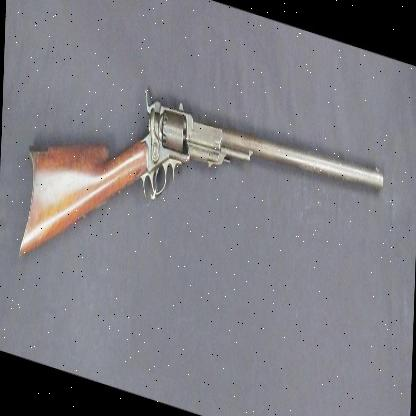rifle: (20, 26, 388, 378)
